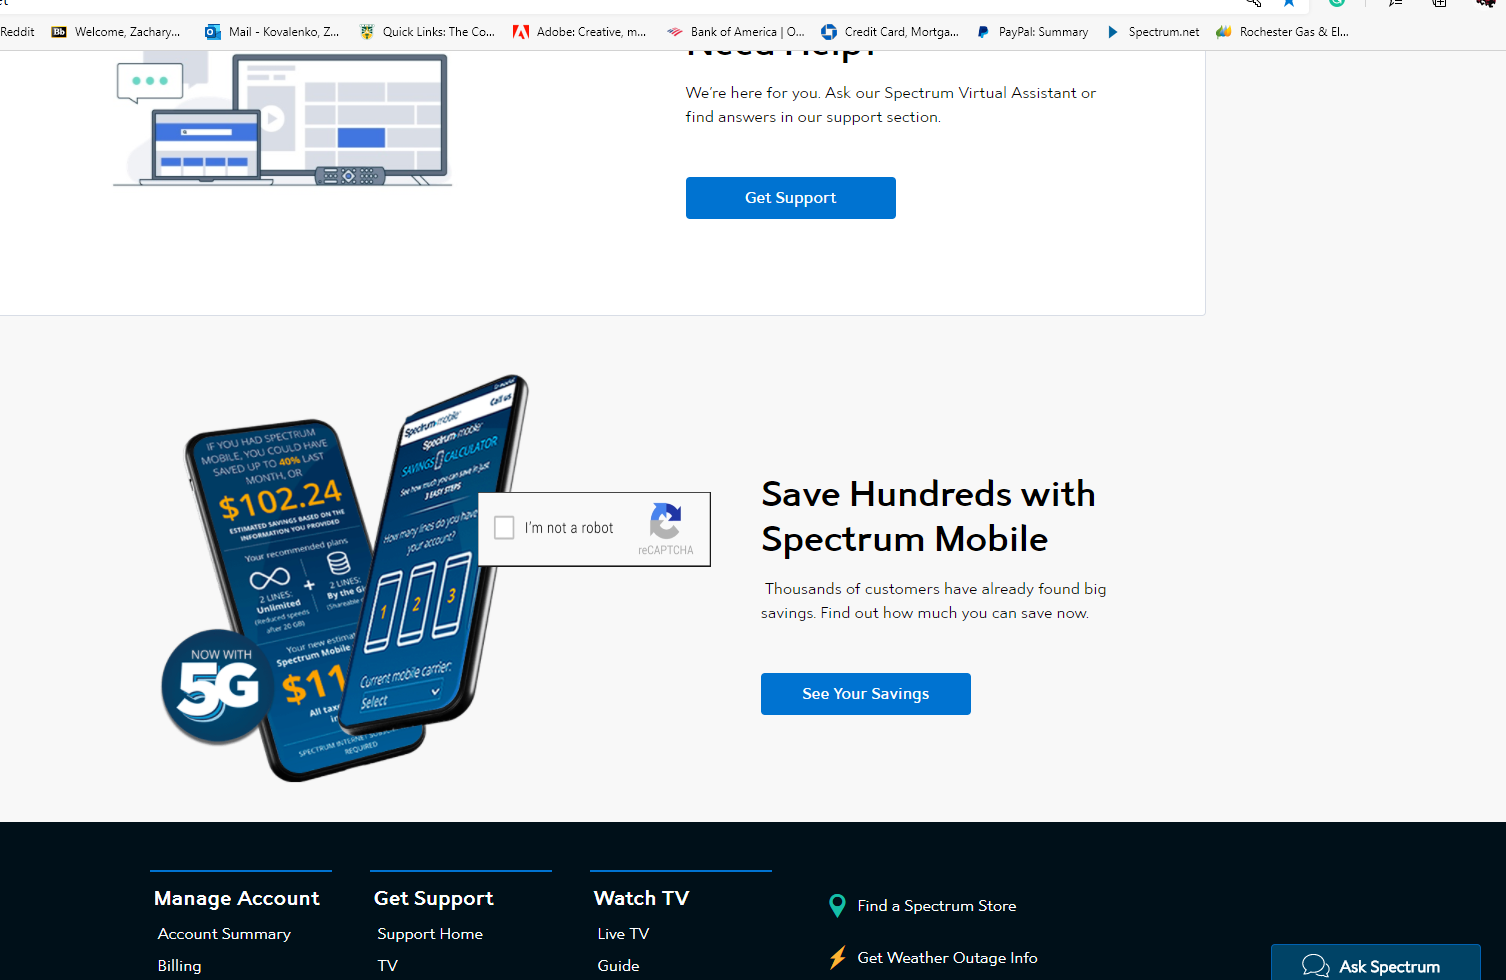captcha: (479, 493, 710, 564)
